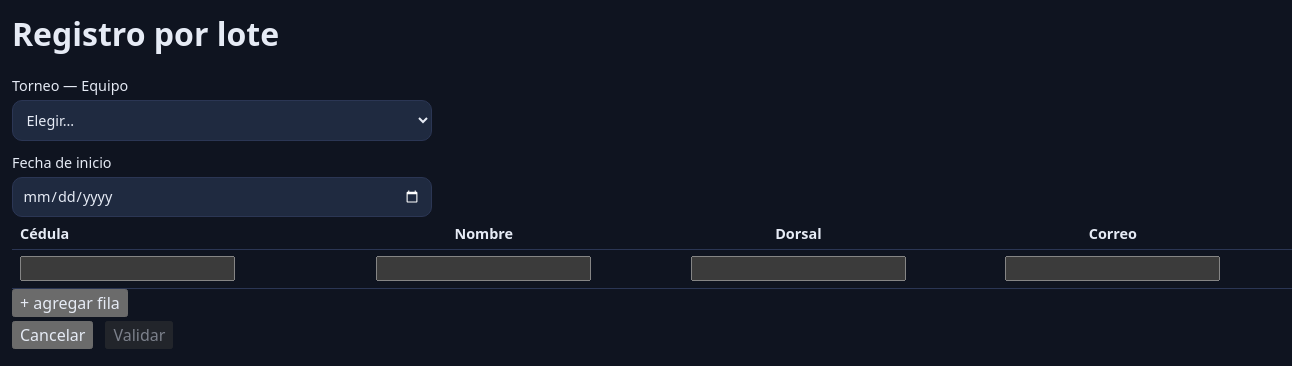
Test: RegistroLoteAdminPage › valida y muestra la fila en Válidos
The image size is (1292, 366).
Select "Copa Ecotec 2026 — Tiburones FC" in the dropdown labelled "Torneo — Equipo": (222, 120) [12,100,432,141]
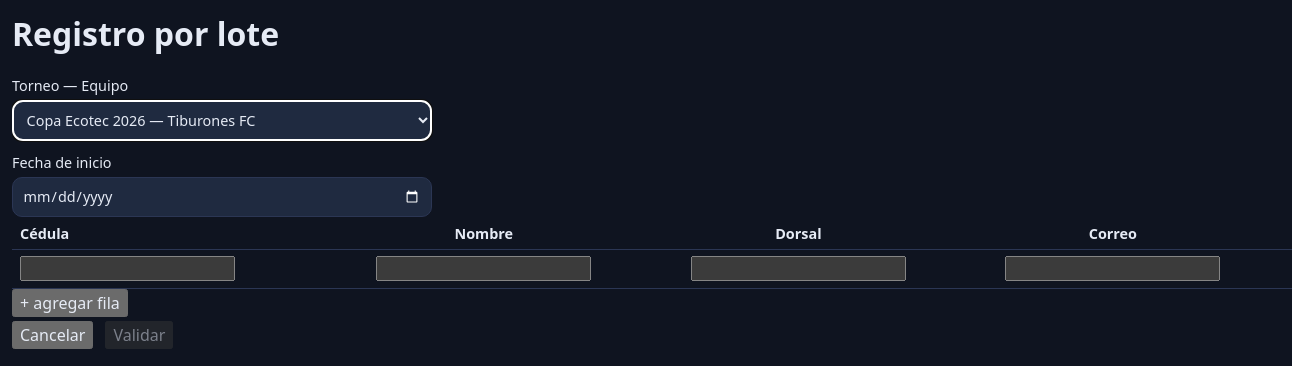
In the date field labelled "Fecha de inicio": (222, 197) [12,177,432,217], type "2026-02-01"
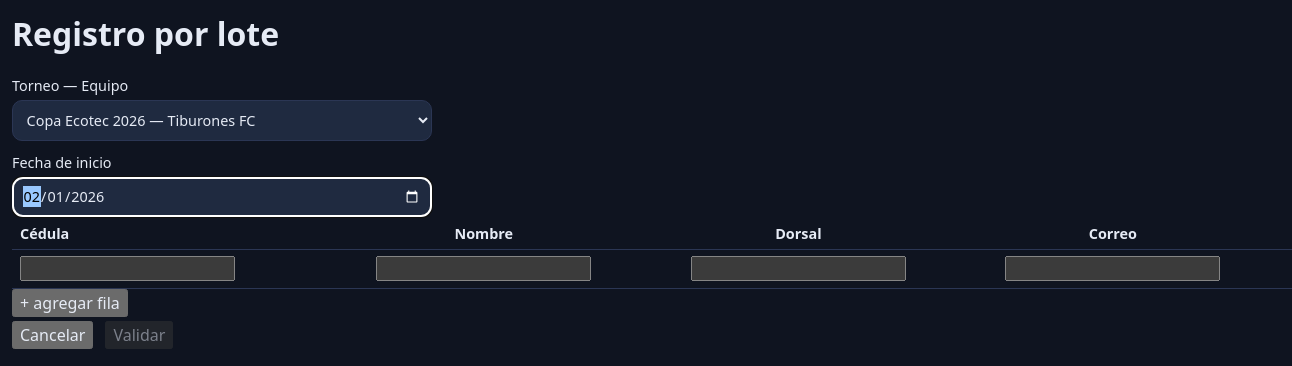
In the field named "Cédula fila 1": (128, 269) [20,256,235,281], type "0900000099"
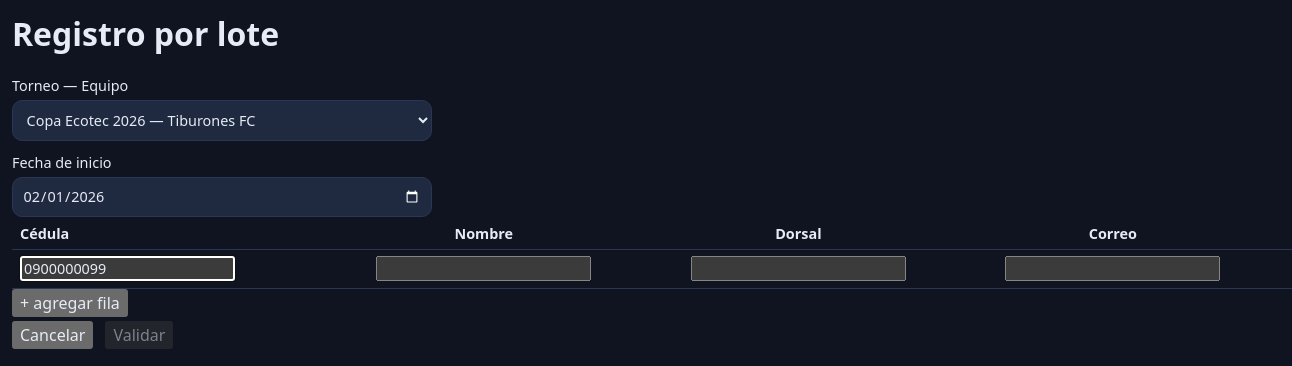
In the field named "Nombre fila 1": (484, 269) [376,256,591,281], type "Jugador Prueba"
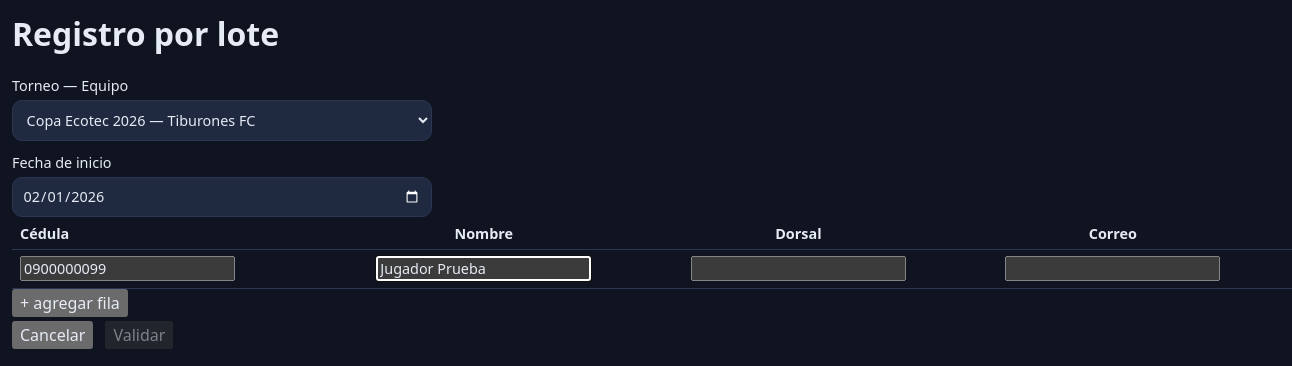
In the field named "Correo fila 1": (1113, 269) [1005,256,1220,281], type "prueba@example.com"
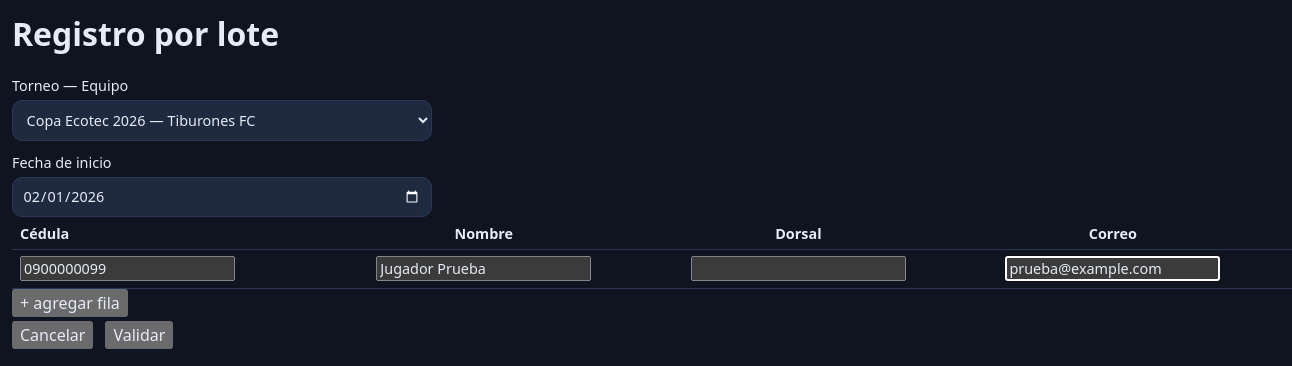
Click the button "Validar": click(139, 335) [105,321,173,349]
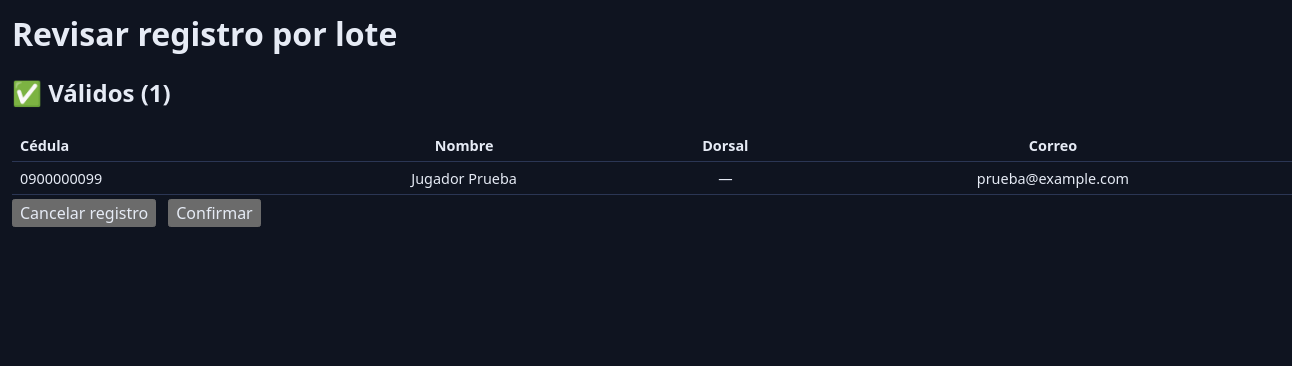
Expected: the heading "✅ Válidos (1)" is shown, [12,76,171,109]
Expected: the text "Jugador Prueba" is shown, [291,162,637,194]
